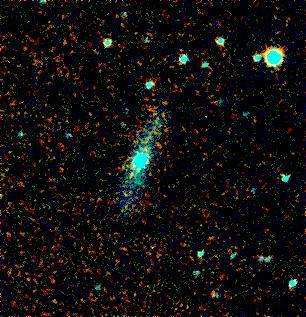star: (114, 176, 144, 206)
